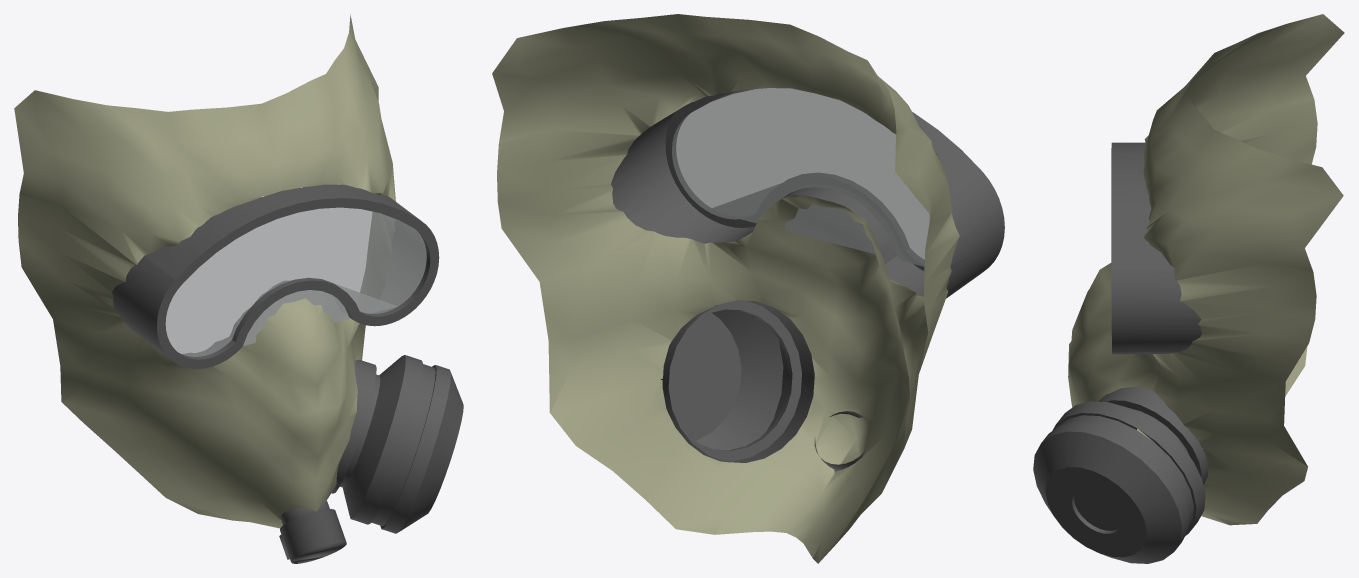
File: Gas-MaskV2.fbx
The picture shows the model from 3 angles, left to right: view 1: azimuth 30°, elevation 25°; view 2: azimuth 150°, elevation 25°; view 3: azimuth 270°, elevation 25°; orthographic projection. The views are drawn at different scales.
Parts seen in each view (by area): view 1: gas_maskV2:polySurface1; view 2: gas_maskV2:polySurface1; view 3: gas_maskV2:polySurface1.
Boxes of the visible parts, <box> form: gas_maskV2:polySurface1: <box>14,14,463,563</box>; gas_maskV2:polySurface1: <box>492,14,1004,563</box>; gas_maskV2:polySurface1: <box>1033,14,1344,563</box>.
Size of the model in its own units: 17.49 by 20.04 by 13.39.
